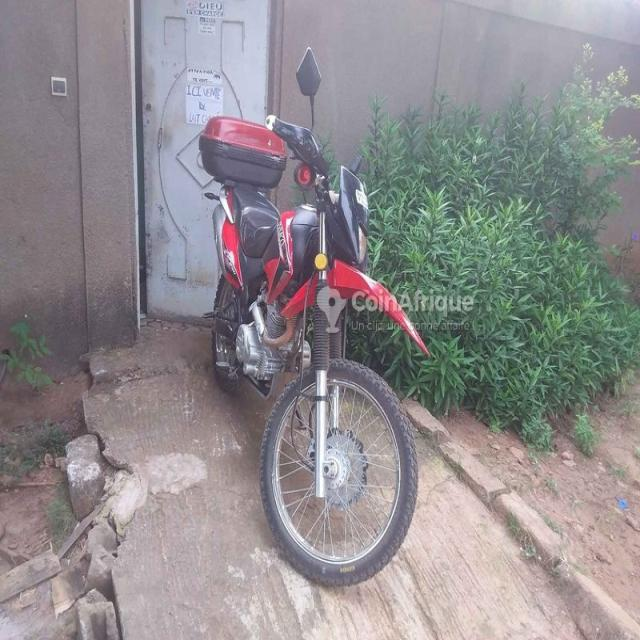Motorcycle: (200, 115, 430, 586)
